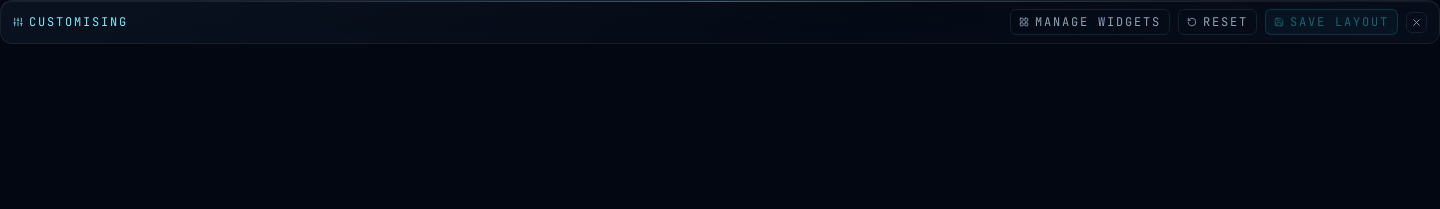
Test: customize bar › will not let the Orb be switched off in Manage widgets
Click the button with test id "manage-widgets" at (1090, 22), box [1010,9,1170,35]
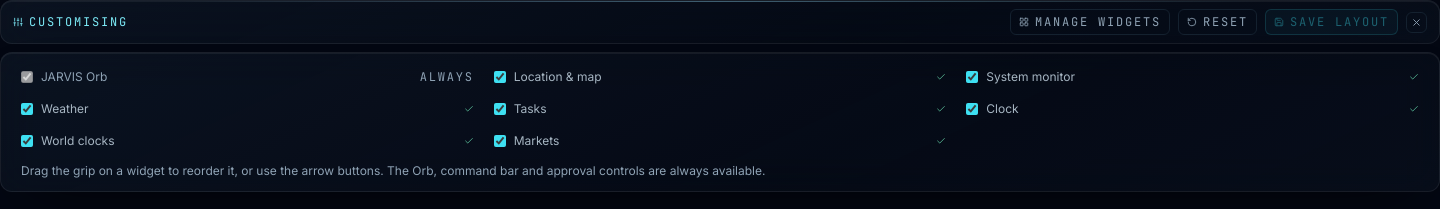
Result: the checkbox with test id "toggle-orb" is disabled at [21,71,33,83]
